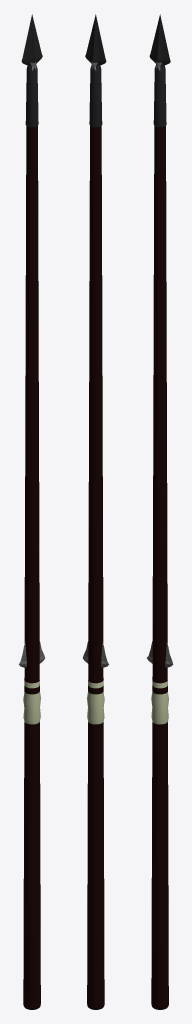
File: Spears.fbx
3 views of the same model, side by side, from view 1: azimuth 30°, elevation 25°; view 2: azimuth 150°, elevation 25°; view 3: azimuth 330°, elevation 25° (orthographic).
Parts seen in each view (by area): view 1: APike, PSpear; view 2: APike, PSpear; view 3: APike, PSpear.
Boxes of the visible parts, x1,y1,x2,y2 form: APike: (21,14,42,1009); PSpear: (19,641,44,724); APike: (85,14,106,1009); PSpear: (83,641,108,724); APike: (149,14,170,1009); PSpear: (147,641,173,724).
Size of the model in its own units: 0.1286 by 4.58 by 0.0752.
